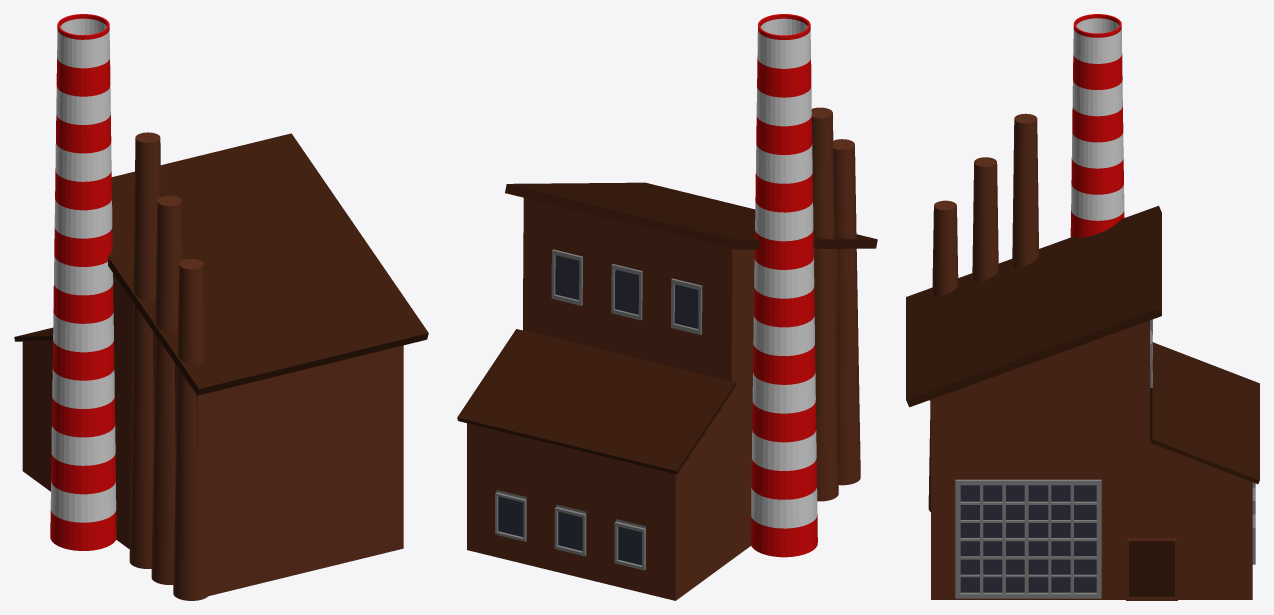
The model's file is factory.fbx.
3 renders of one model, left to right at view 1: azimuth 30°, elevation 25°; view 2: azimuth 150°, elevation 25°; view 3: azimuth 270°, elevation 25°, orthographic. The views are drawn at different scales.
Parts seen in each view (by area): view 1: Cube, Cylinder.003, Cylinder; view 2: Cube, Cylinder.003, Cylinder; view 3: Cube, Cylinder.003, Cylinder.
Part boxes in pixels (left/top/right/bottom): Cube: left=14, top=133, right=428, bottom=596; Cylinder.003: left=50, top=14, right=116, bottom=550; Cylinder: left=129, top=132, right=207, bottom=600; Cube: left=457, top=182, right=877, bottom=600; Cylinder.003: left=751, top=14, right=817, bottom=557; Cylinder: left=811, top=107, right=860, bottom=501; Cube: left=906, top=205, right=1259, bottom=600; Cylinder.003: left=1070, top=14, right=1124, bottom=237; Cylinder: left=928, top=113, right=1038, bottom=511.
Size of the model in its own units: 2.62 by 4.76 by 3.22.
